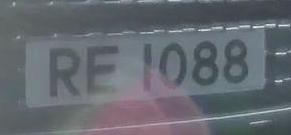0: (156, 38, 189, 92)
1: (133, 38, 156, 97)
8: (219, 33, 254, 89), (189, 35, 222, 91)
F: (77, 39, 133, 102)
R: (41, 39, 87, 104)
